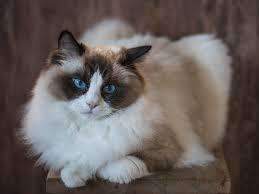ragdoll: (46, 19, 156, 133)
